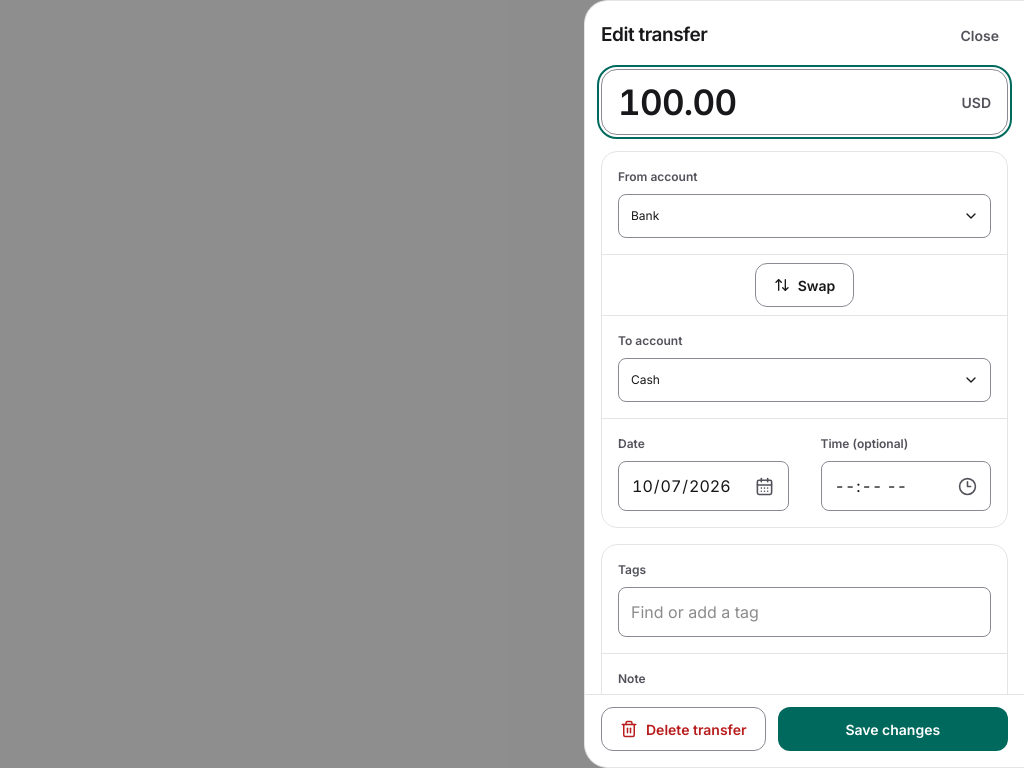
Test: asks only about the entries a transfer has
Click the button "Delete transfer" at x=683, y=729, box [601,707,766,751]
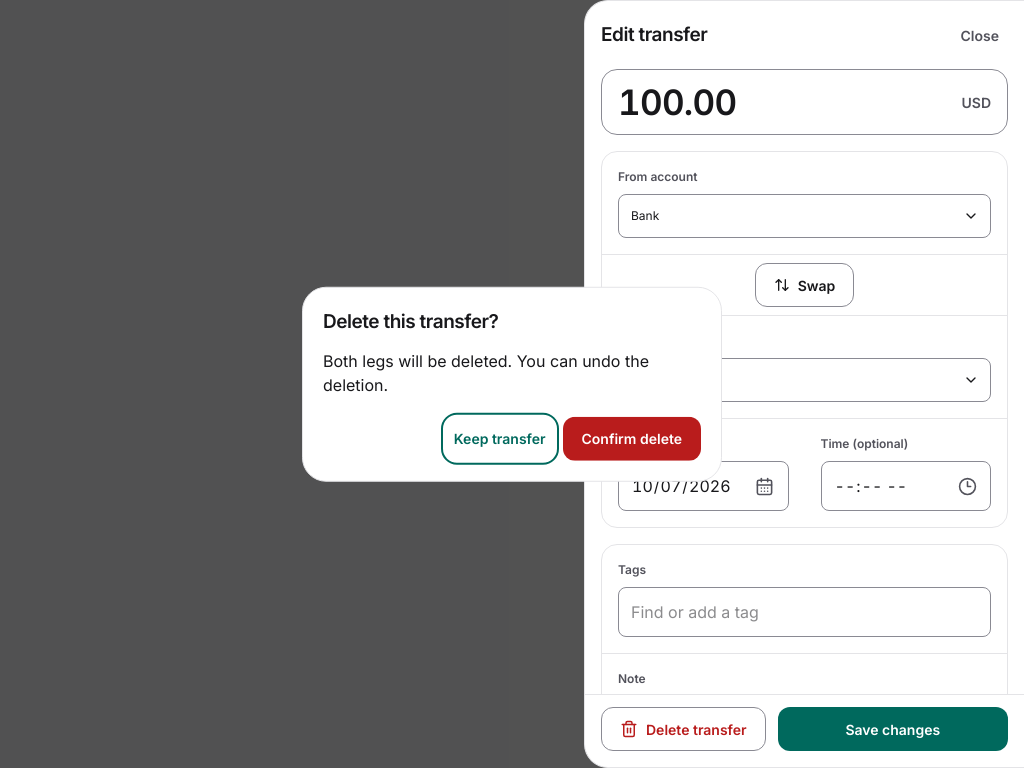
Result: the text "Both legs will be deleted. You can undo the deletion." is shown at [323,348,701,396]
